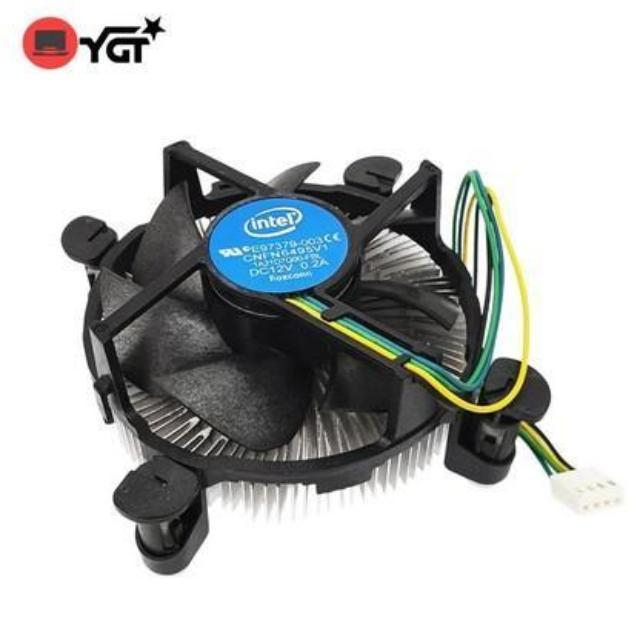CPU_Fan: (75, 158, 520, 520)
